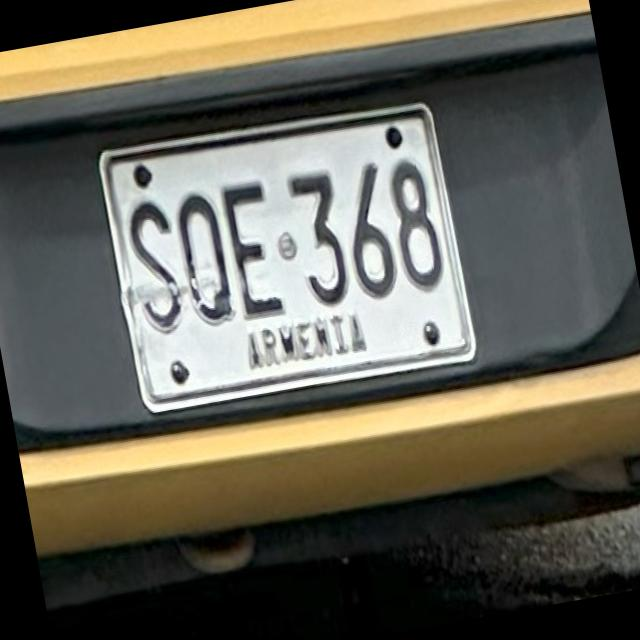number plate: (97, 103, 472, 409)
